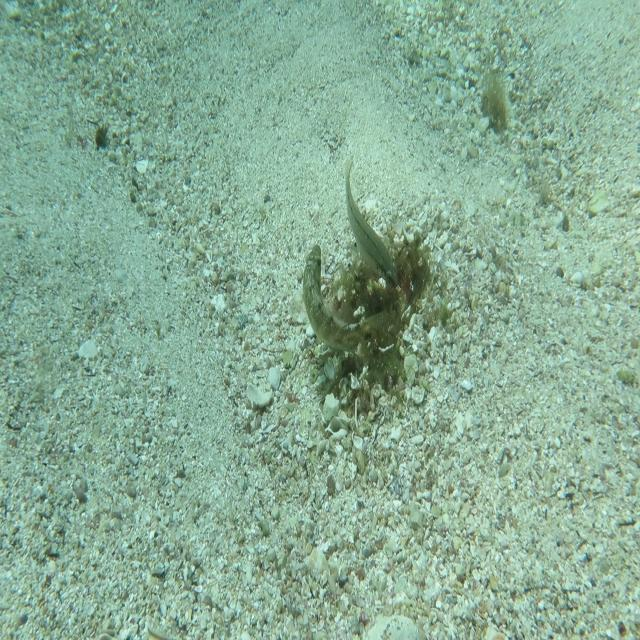BEND: (302, 240, 391, 354)
female: (342, 155, 399, 290)
nest: (316, 216, 444, 419)
